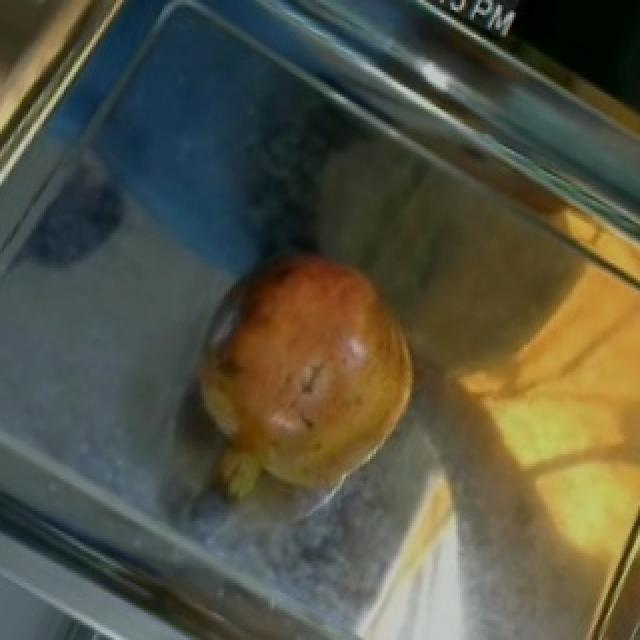fruit: (172, 221, 446, 501)
